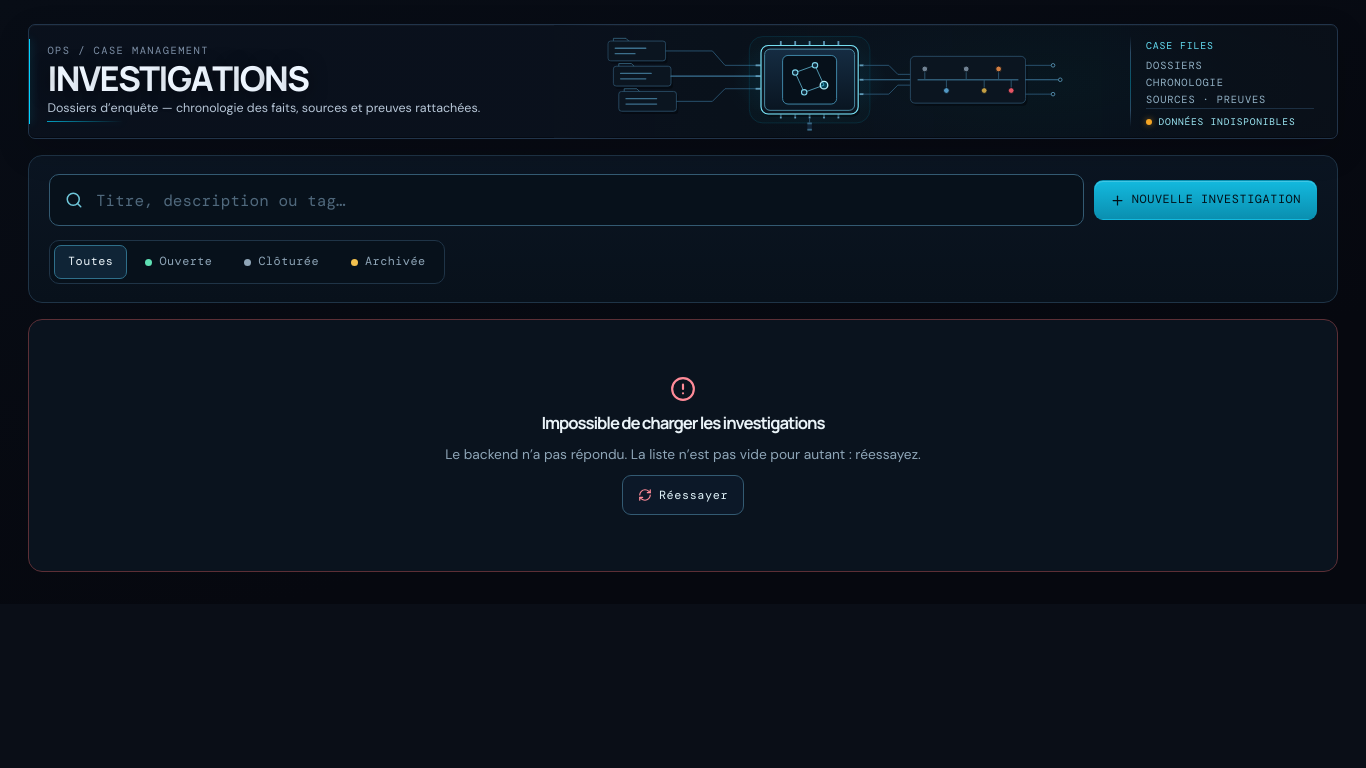
Test case: Investigations 2026 — liste › distingue l'erreur, la liste vide et l'absence de résultat filtré
This screenshot has width=1366, height=768.
Expected: the message shows "Impossible de charger les investigations", [542,411,824,434]
Click the button "Réessayer" at (683, 495), box [622,475,744,515]
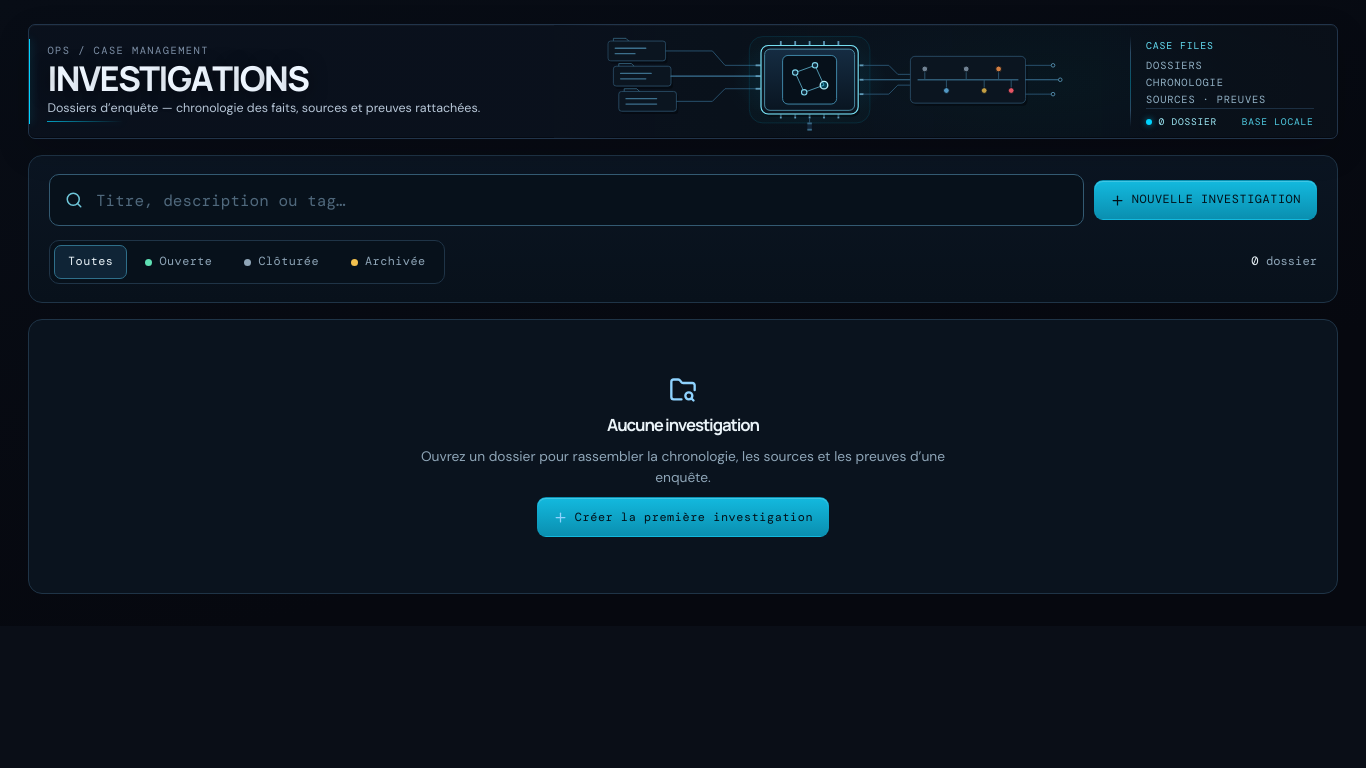
Result: the heading "Aucune investigation" is shown at [607,414,759,436]
Click the button "Clôturée" at (282, 262), box [230,245,333,279]
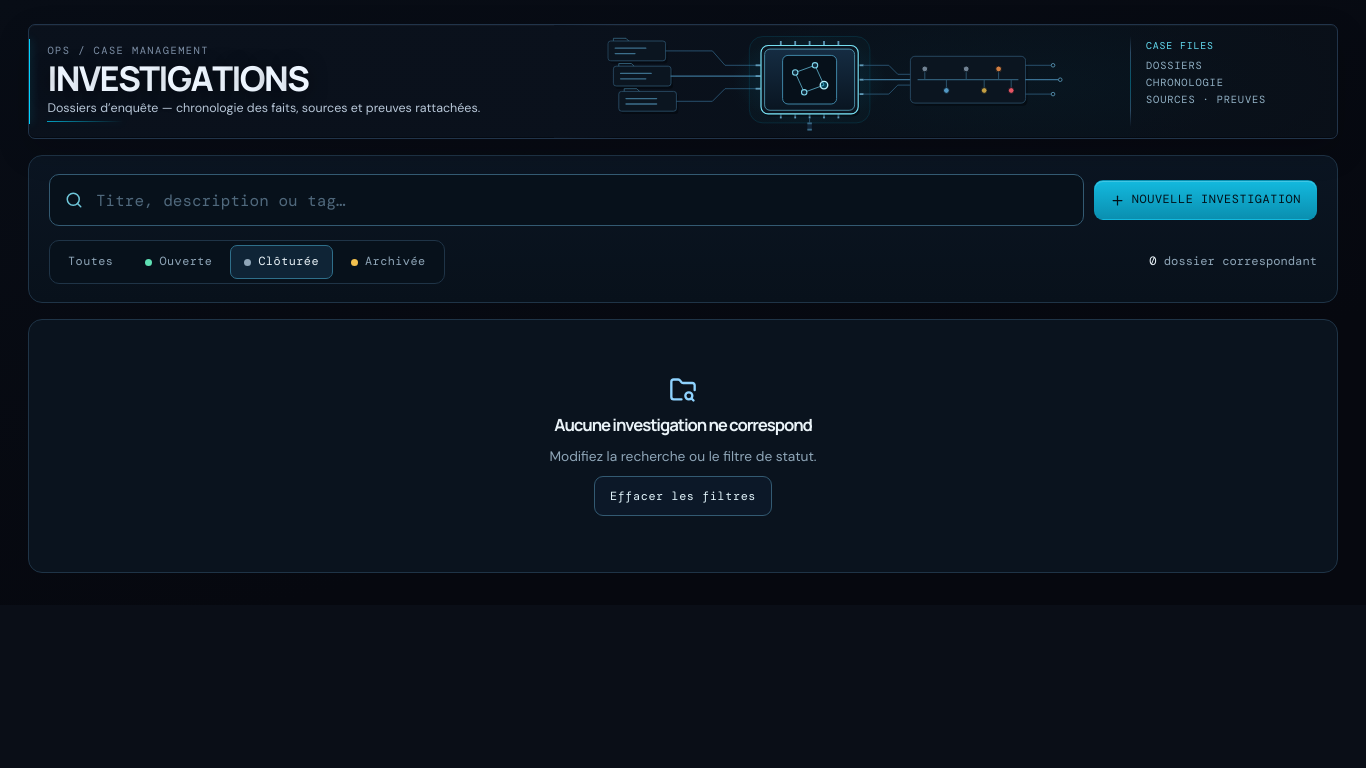
Result: the heading "Aucune investigation ne correspond" is shown at [554,414,812,436]
